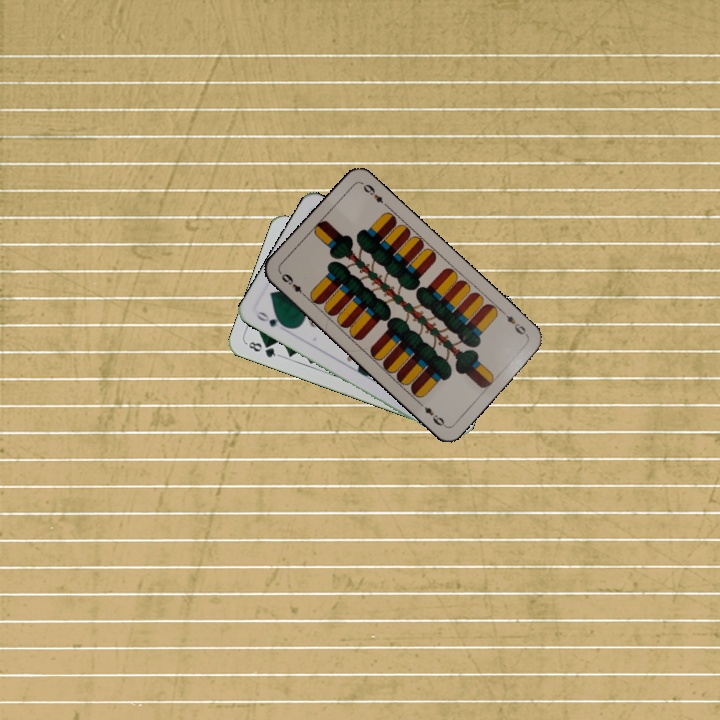E9: (276, 269, 309, 300), (498, 307, 530, 338)
G8: (242, 337, 282, 360)
GO: (252, 307, 290, 331)
